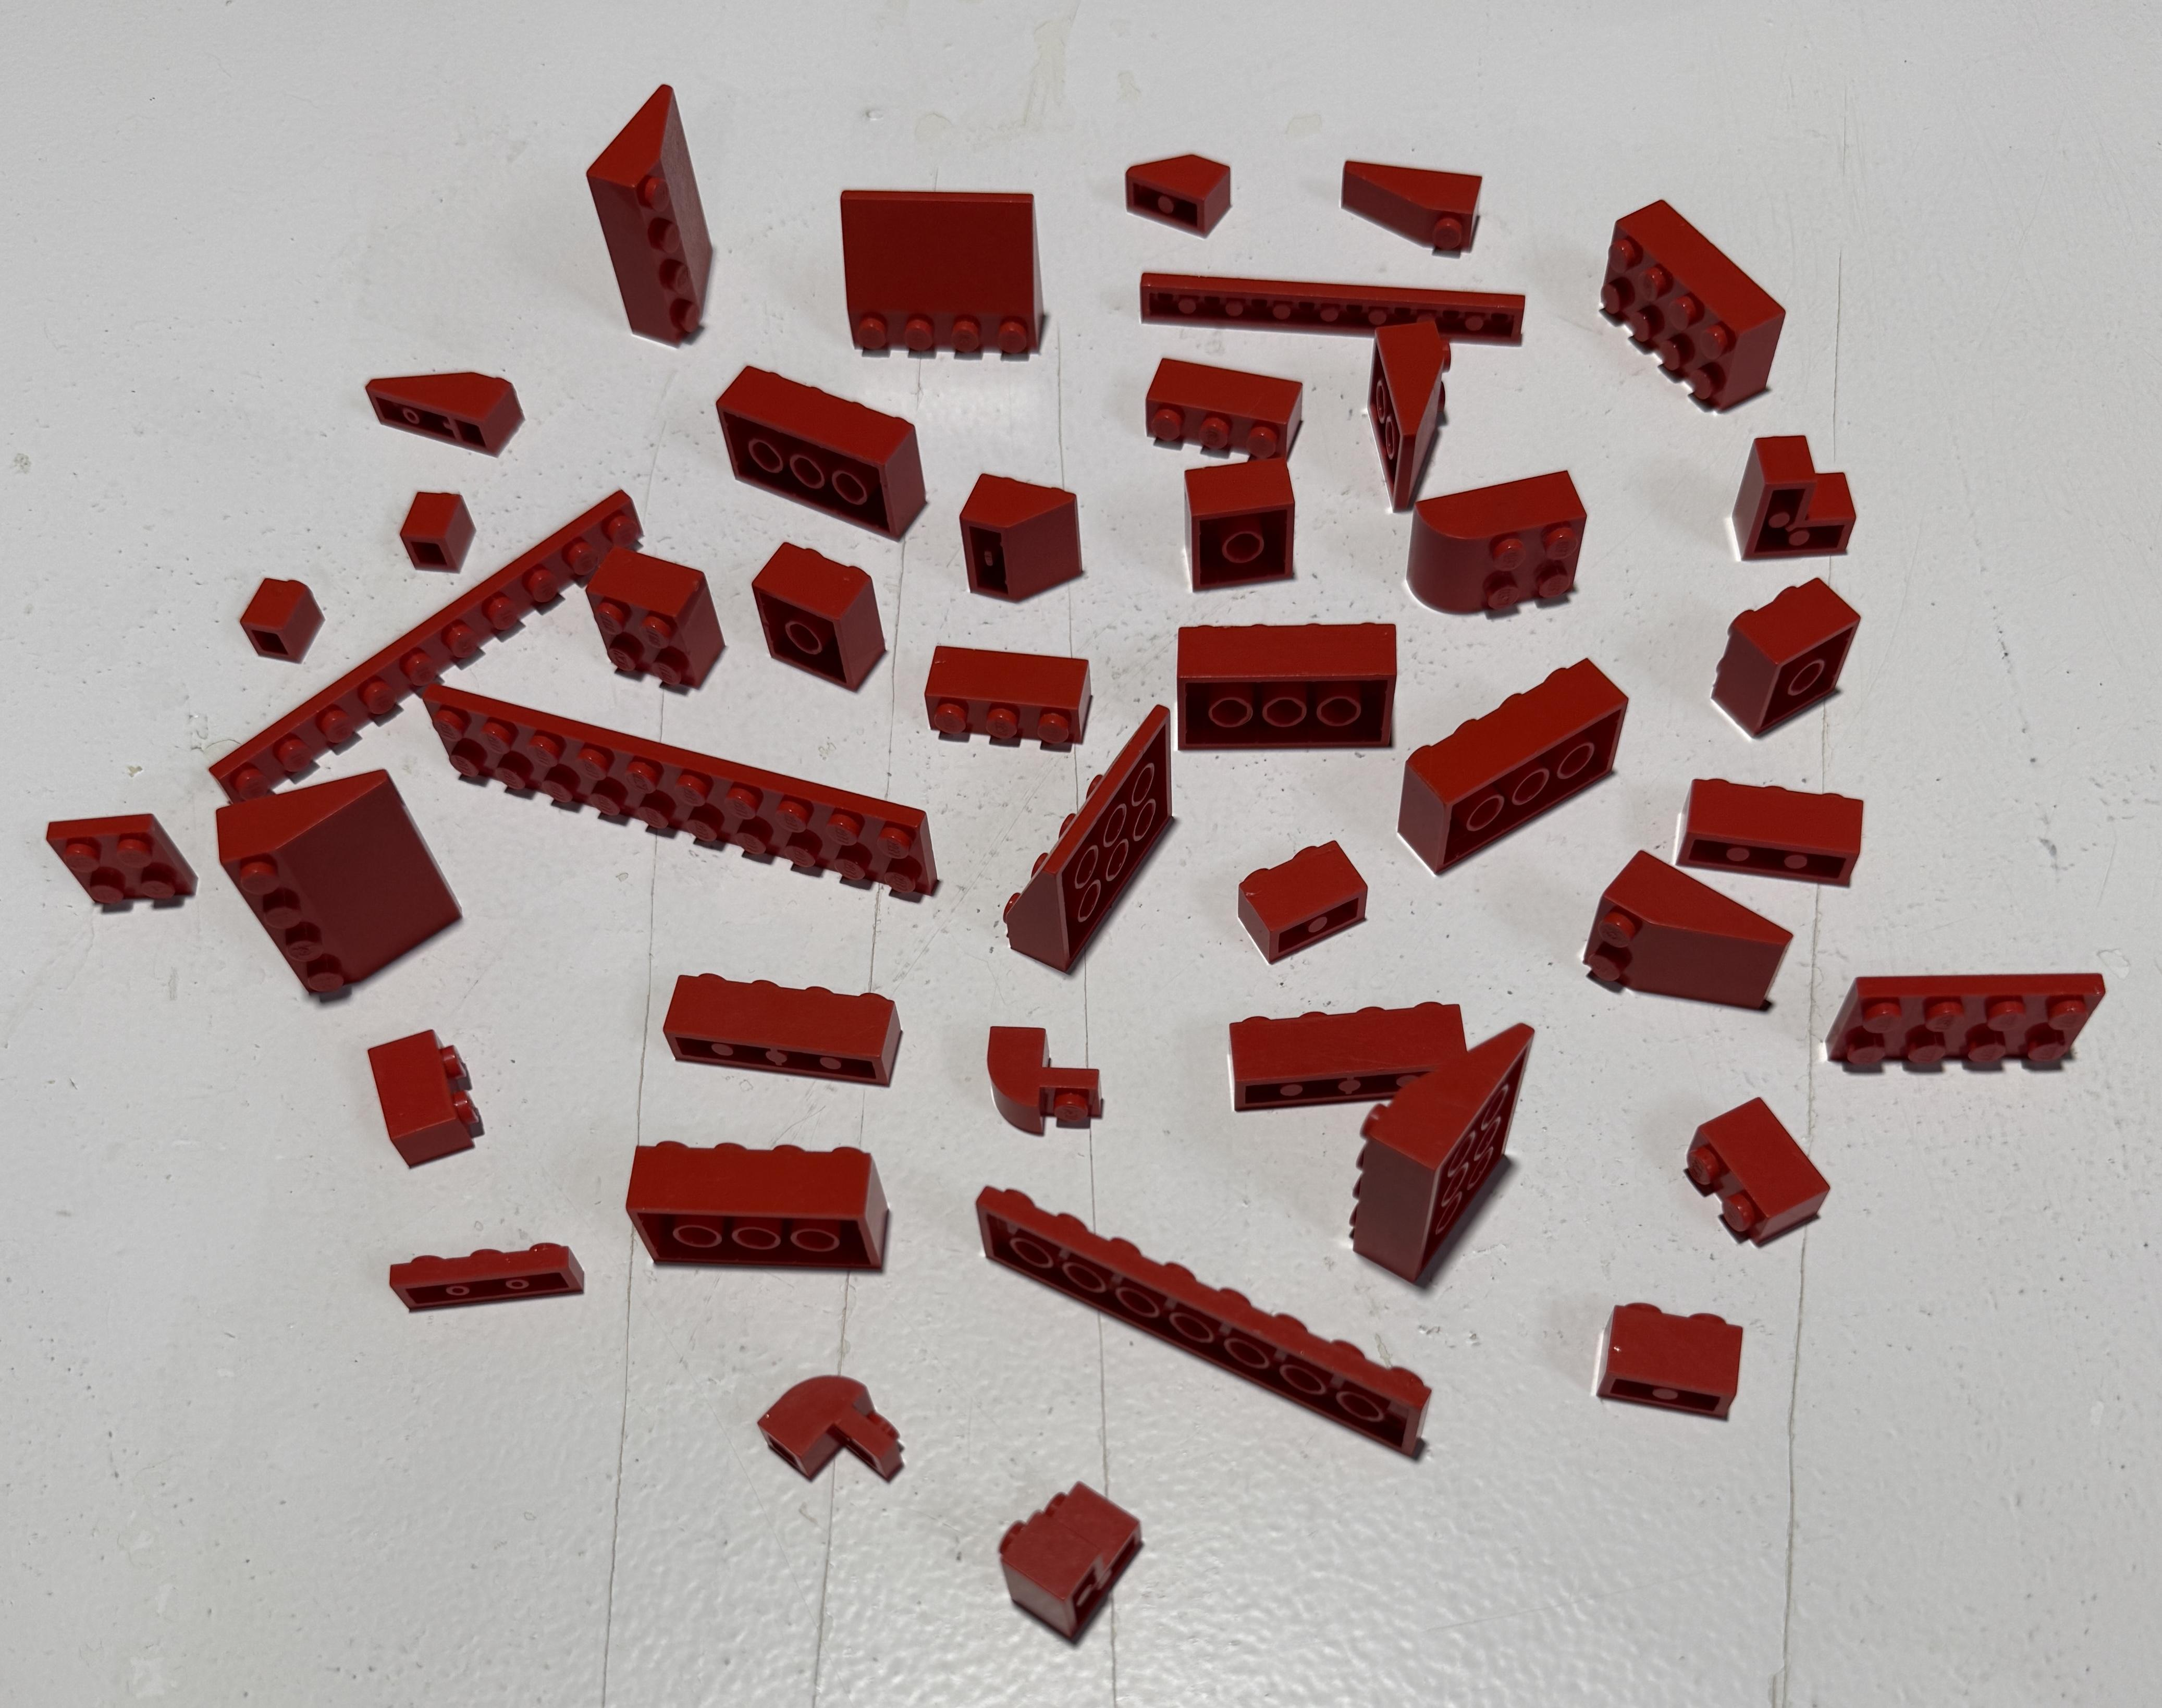Special_02: (1571, 822, 1800, 1039), (1328, 300, 1483, 527)
brick_1x1: (388, 472, 493, 579), (230, 556, 326, 665)
brick_1x2: (1586, 1274, 1813, 1453), (1657, 1078, 1850, 1278), (1220, 795, 1383, 983), (347, 1009, 507, 1190)
brick_1x3: (1653, 750, 1894, 909), (898, 618, 1116, 781), (1128, 335, 1320, 479)
brick_1x4: (630, 946, 941, 1104), (709, 353, 935, 546), (1197, 994, 1495, 1129)
brick_2x2: (1693, 562, 1886, 743), (565, 520, 746, 706), (741, 525, 911, 704), (1156, 430, 1325, 590)
brick_2x4: (1374, 637, 1643, 865), (1579, 183, 1800, 432), (1155, 597, 1407, 767)
plate_2x2: (26, 799, 209, 932)
